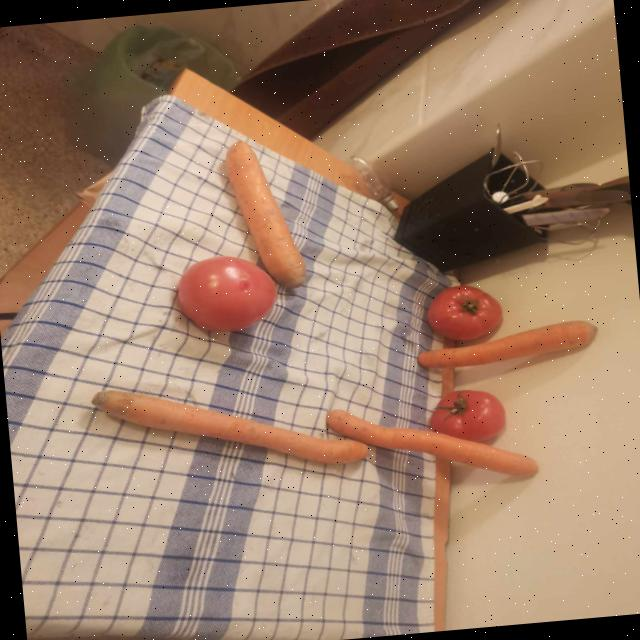carrot: (91, 389, 368, 463), (327, 409, 537, 475), (225, 142, 306, 288), (417, 320, 597, 368)
tomato: (427, 285, 502, 340), (429, 389, 505, 442)
